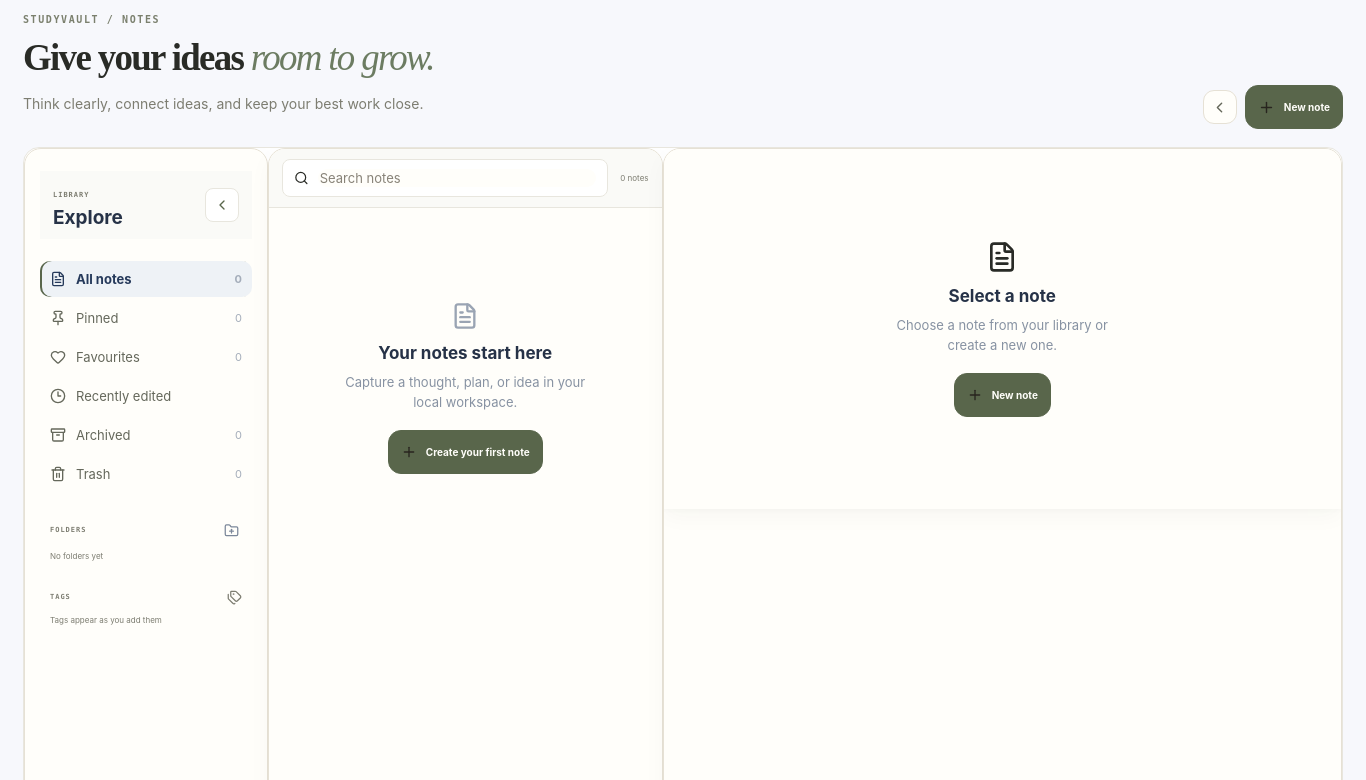
Notes and application regression › renders Notes navigation and creates, pins, and filters a note
Expected: the text "0 notes" is shown, [620,173,649,183]
Click the 1st button "New note" at (1294, 107), box [1245,85,1343,129]
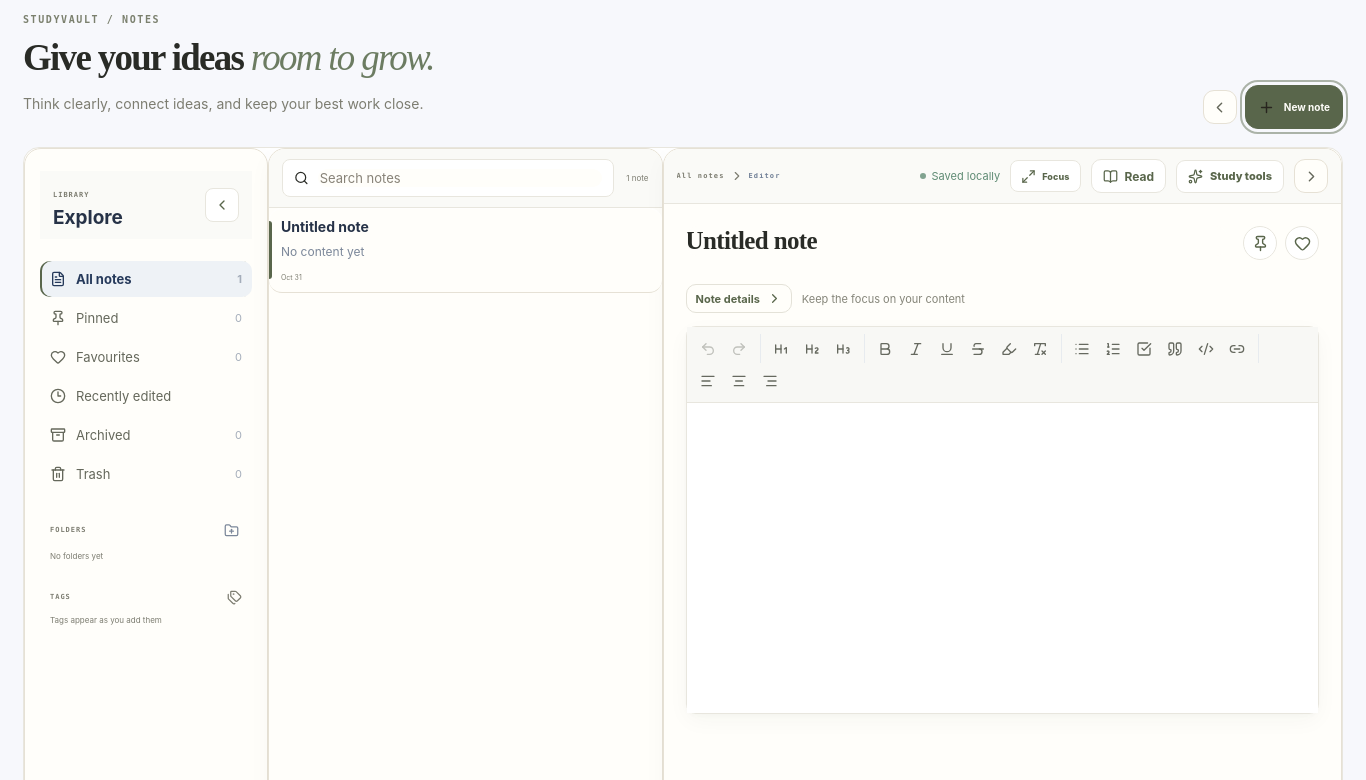
Now the field showing "Untitled note" is shown, box [686,226,1227,256]
Click the button named "Pin note" at (1260, 243), box [1243,226,1277,260]
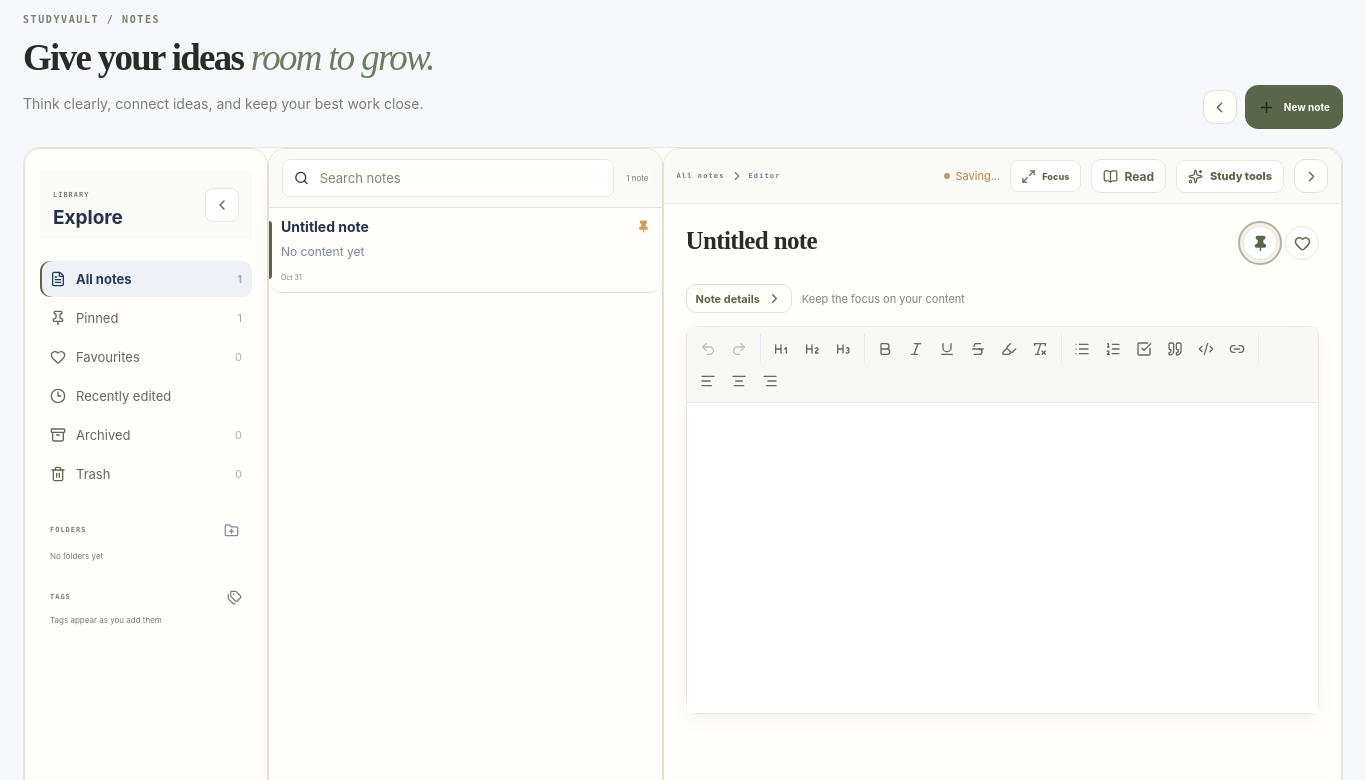
Now the button named "Unpin note" is shown, box [1243,226,1277,260]
Click the button "Pinned 1" at (146, 318), box [40,300,252,336]
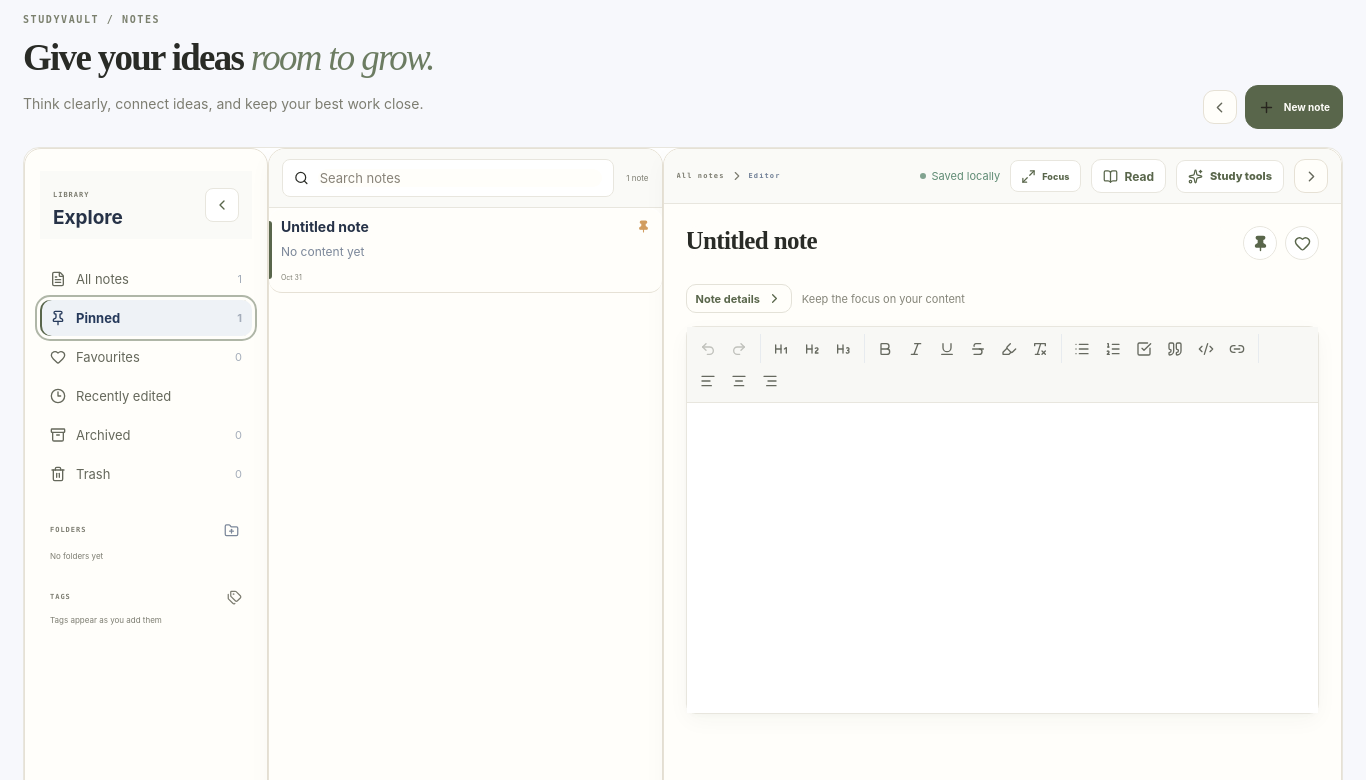
Now the field showing "Untitled note" is shown, box [686,226,1227,256]
Now the text "Saved locally" is shown, box [920,169,1000,183]
